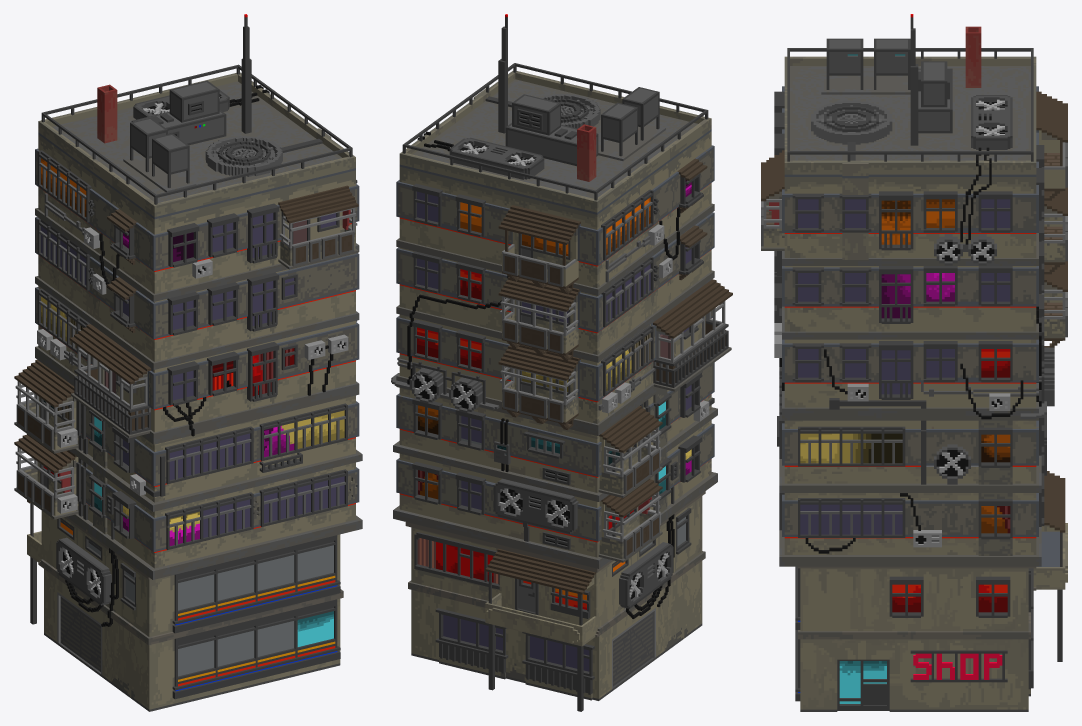
Rendered from Chinatown.fbx.
The picture shows the model from 3 angles, left to right: view 1: azimuth 30°, elevation 25°; view 2: azimuth 150°, elevation 25°; view 3: azimuth 270°, elevation 25°; orthographic projection. The views are drawn at different scales.
Visible parts, largest first — view 1: Chinatown-0, Chinatown-2.001, Chinatown-1; view 2: Chinatown-0, Chinatown-2.001, Chinatown-1; view 3: Chinatown-0, Chinatown-2.001, Chinatown-1.
Boxes of the visible parts, <box> form: Chinatown-0: <box>35,14,359,444</box>; Chinatown-2.001: <box>14,359,362,579</box>; Chinatown-1: <box>27,500,343,711</box>; Chinatown-0: <box>391,14,732,435</box>; Chinatown-2.001: <box>393,362,717,568</box>; Chinatown-1: <box>405,491,705,711</box>; Chinatown-0: <box>761,14,1067,420</box>; Chinatown-2.001: <box>777,367,1054,566</box>; Chinatown-1: <box>795,471,1067,711</box>.
Size of the model in its own units: 1130 by 2840 by 1170.
